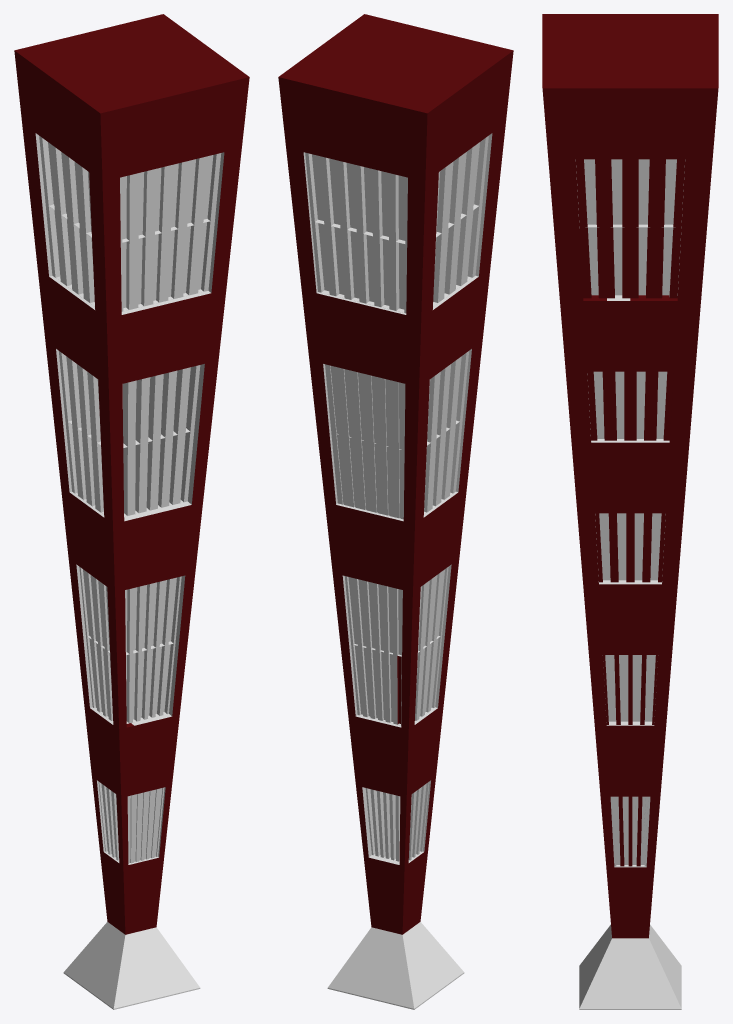
File: the_trophy.fbx
The picture shows the model from 3 angles, left to right: view 1: azimuth 30°, elevation 25°; view 2: azimuth 150°, elevation 25°; view 3: azimuth 270°, elevation 25°; orthographic projection. The views are drawn at different scales.
Visible parts, largest first — view 1: Cube; view 2: Cube; view 3: Cube.
Part boxes in pixels (box(x1,y1,x2,y2)): Cube: box(14, 14, 249, 1009); Cube: box(278, 14, 513, 1009); Cube: box(542, 14, 718, 1009).
Bounding box in the file's own units: 276 × 1619 × 276.
